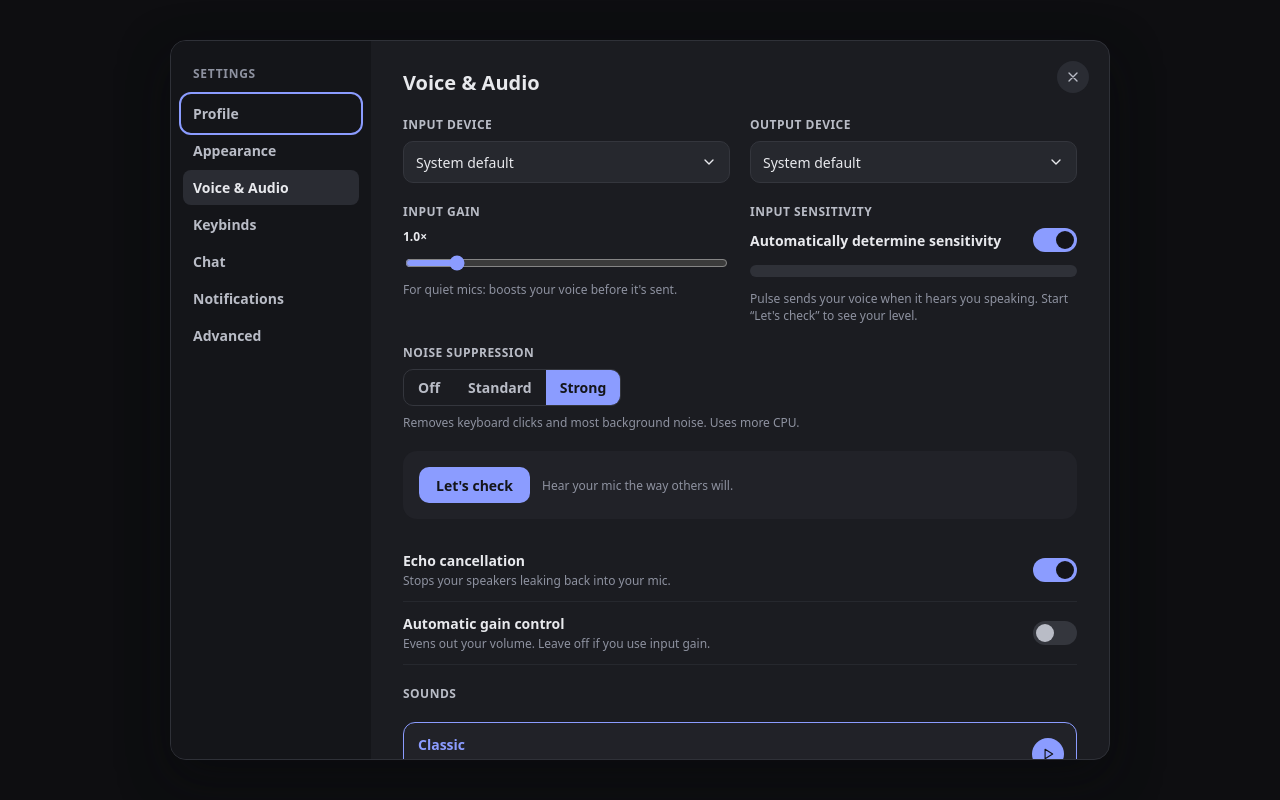
Scenario: Settings → Notifications › Settings has a Notifications section
The width and height of the screenshot is (1280, 800).
Click the button "Notifications".
click(271, 298)  # box [183,281,359,316]
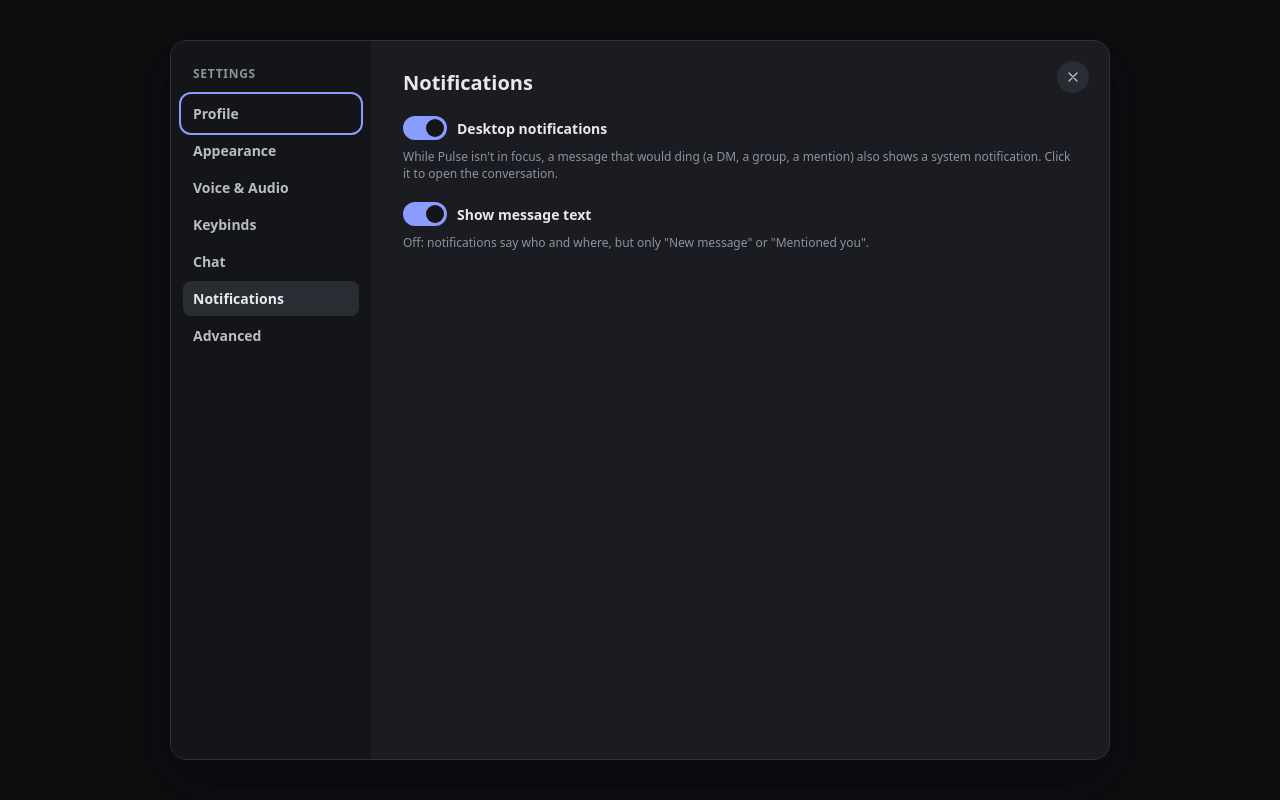
Result: the text "Desktop notifications" is shown at [457,118,607,138]
